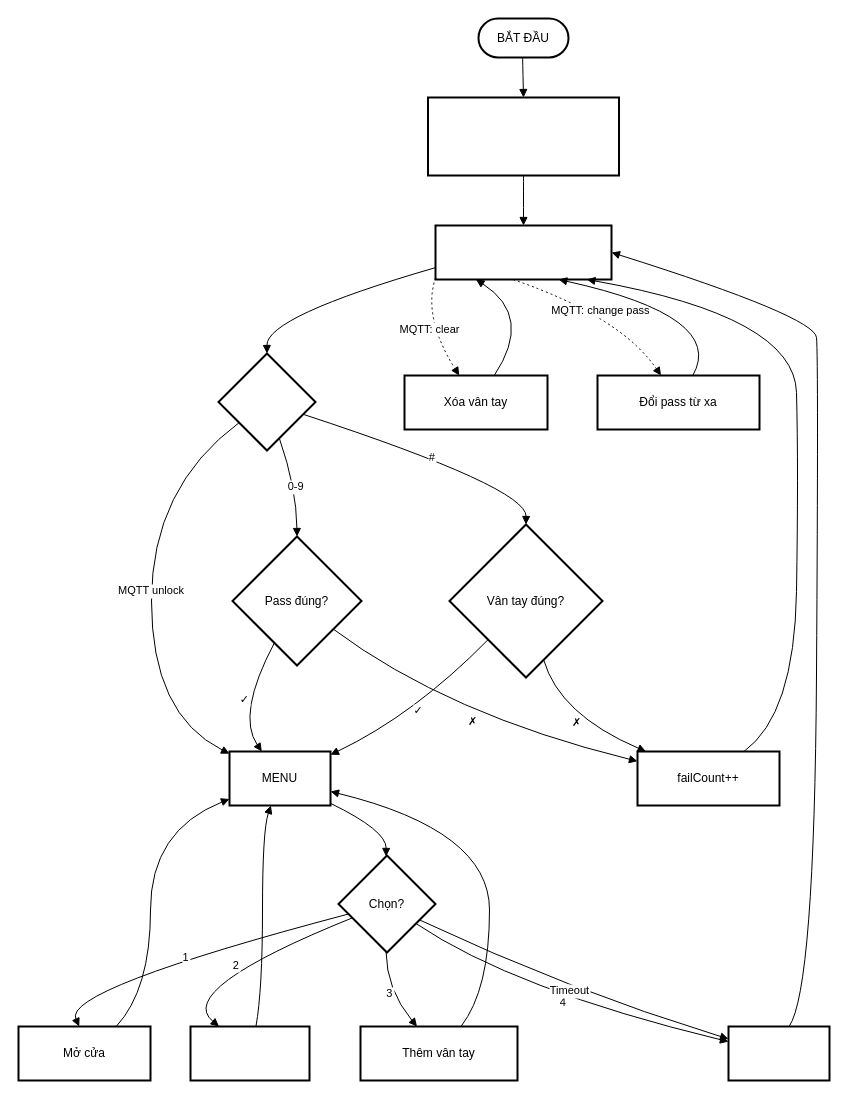
This 847x1098 diagram has some shape labels left out. The shapes that lost their labels are listed below. From the top down, each one's centre as x and y in pixels, then its label:
At (x=523, y=136): "Khởi tạo hệ thống WiFi + MQTT".
At (x=523, y=252): "MÀN HÌNH KHÓA".
At (x=266, y=401): "Input?".
At (x=249, y=1053): "Đổi pass".
At (x=778, y=1053): "Thoát".
